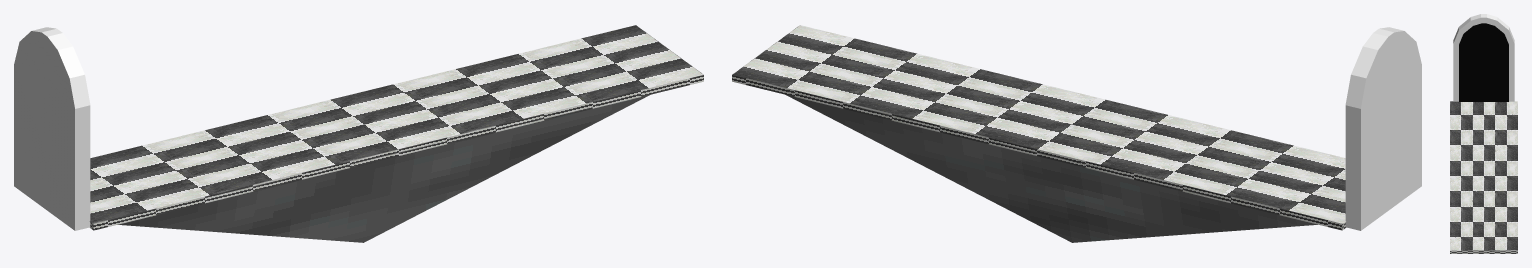
The model's file is runway.glb.
The picture shows the model from 3 angles, left to right: view 1: azimuth 30°, elevation 25°; view 2: azimuth 150°, elevation 25°; view 3: azimuth 270°, elevation 25°; orthographic projection. The views are drawn at different scales.
Visible parts, largest first — view 1: LLL.007, Plane.004; view 2: LLL.007, Plane.004; view 3: LLL.007, Plane.004.
Boxes of the visible parts, <box> form: LLL.007: <box>89,25,703,242</box>; Plane.004: <box>14,27,90,230</box>; LLL.007: <box>732,25,1345,242</box>; Plane.004: <box>1345,27,1421,230</box>; LLL.007: <box>1450,101,1517,253</box>; Plane.004: <box>1453,14,1514,101</box>.
Bounding box in the file's own units: 49.81 × 21.79 × 9.37.
Materials: 4 (2 with a texture image).
